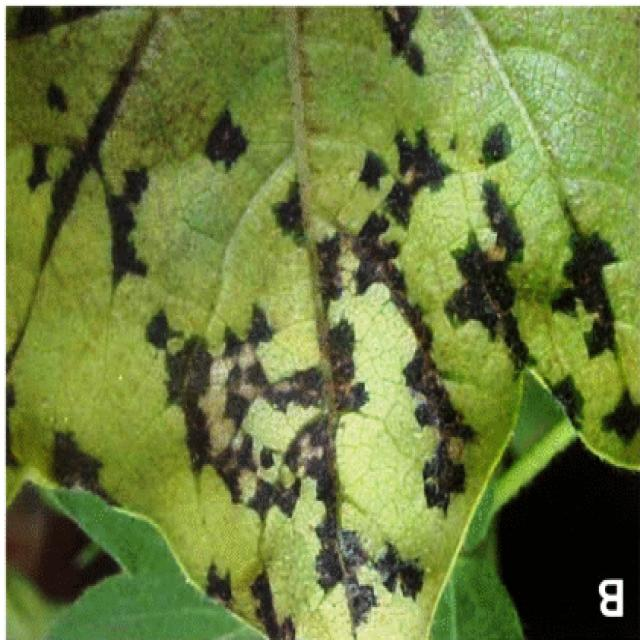Bacterial Blight: (134, 109, 607, 468)
